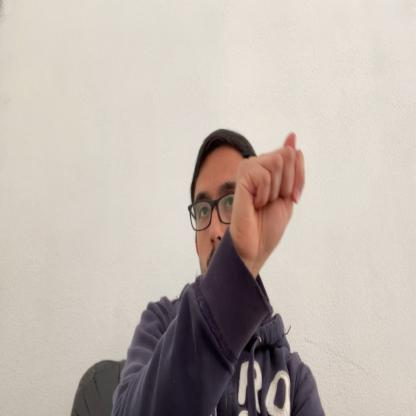T: (234, 130, 305, 262)
